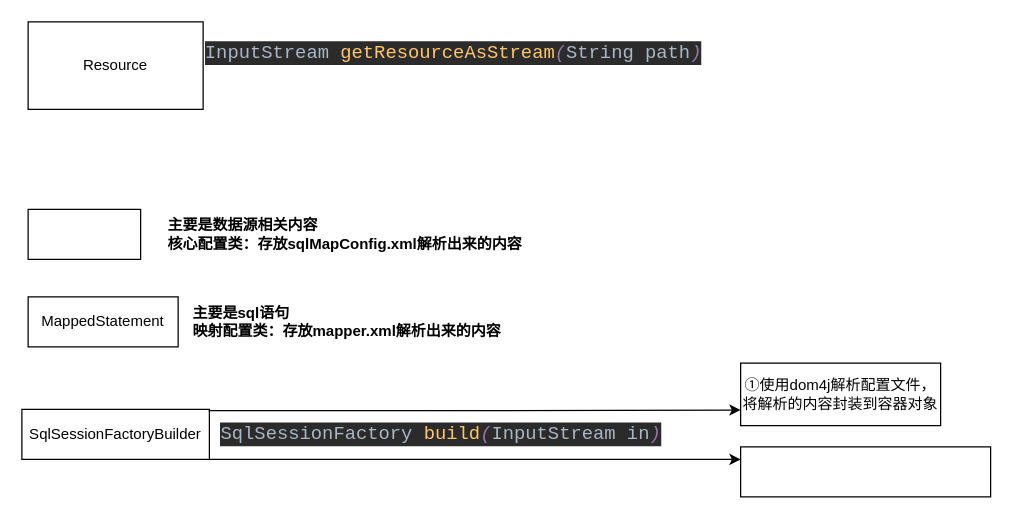
The diagram is 1013 pixels wide and 519 high, and some of its shapes have lost their labels. Each missing label, with the box of its shape:
Configuration: (27, 208, 141, 259)
②创建sqlSessionFactory对象：工厂类：生产sqlSession:会话对象: (739, 446, 991, 497)
